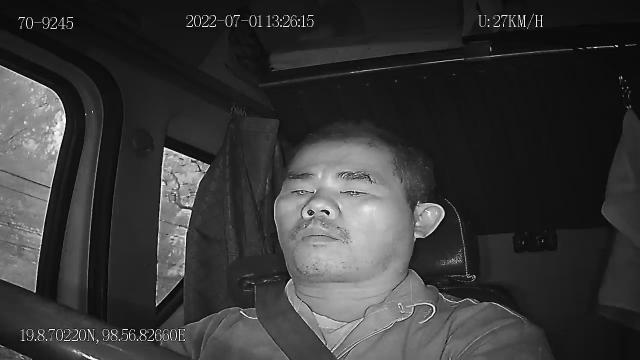SafeDriving: (331, 174, 379, 203), (280, 176, 318, 204)
Seatbelt: (252, 278, 341, 360)
